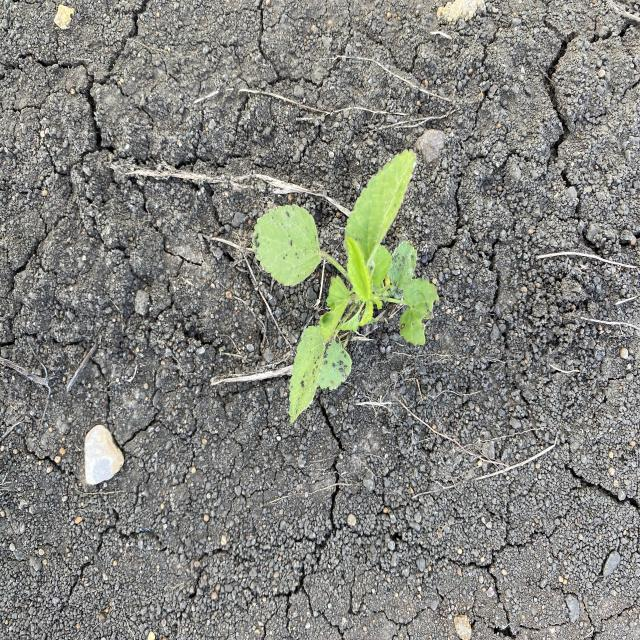PricklySida: (250, 146, 441, 427)
